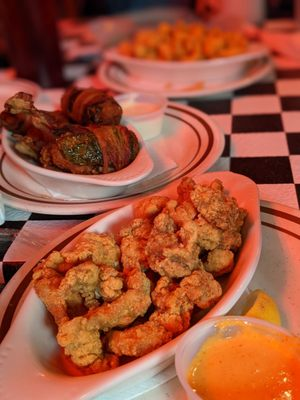sushi: (8, 169, 263, 378), (174, 315, 300, 400)
